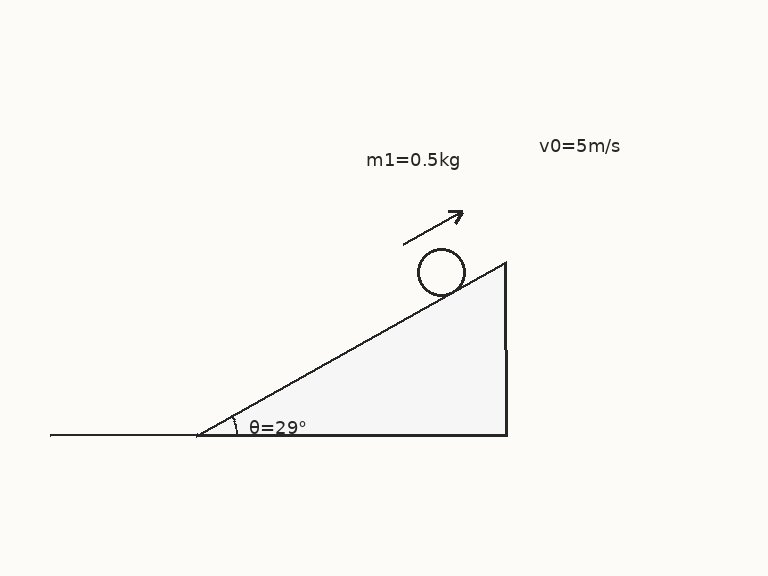ball: (415, 246, 467, 298)
ramp: (195, 262, 508, 437)
